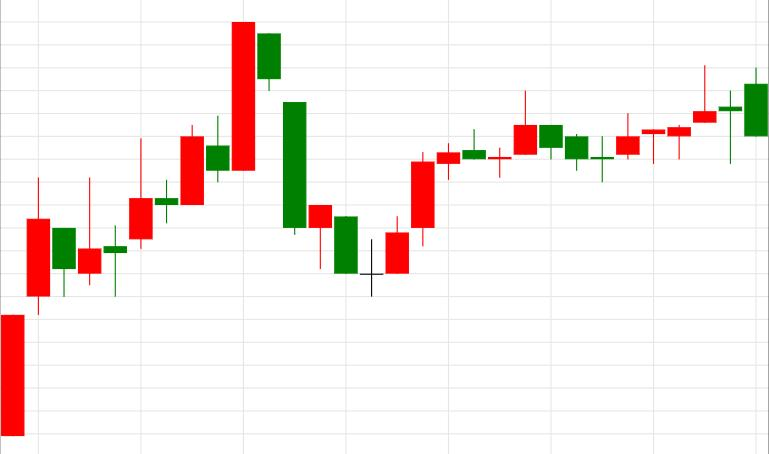morning_star_rise: (257, 33, 409, 297)
